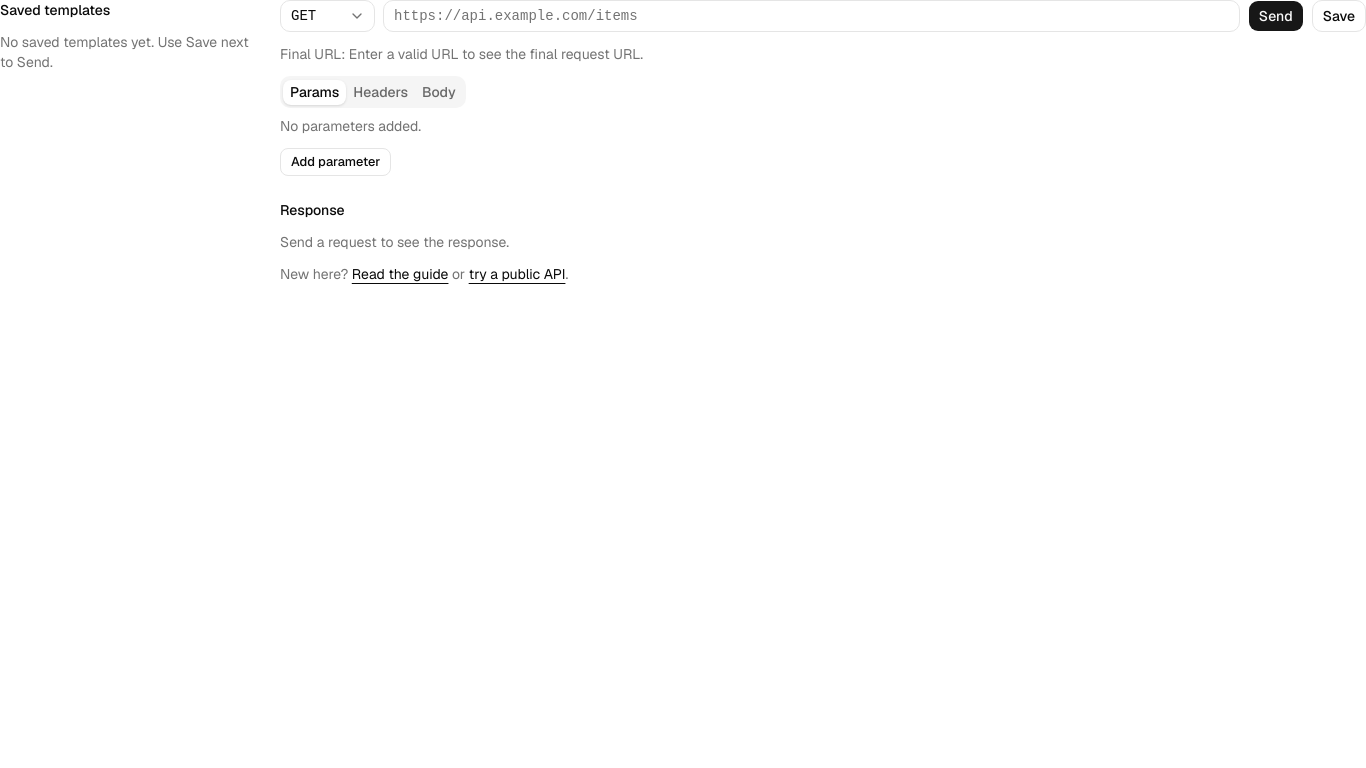
Scenario: Saving templates (FR-03) › saves an encrypted template that stays unlocked
Check: the text "No saved templates yet. Use Save next to Send." is shown, box [0, 32, 256, 72]
Step 1. Type "https://api.example.com/private" into the field named "URL" → (811, 16), box [383, 0, 1240, 32]
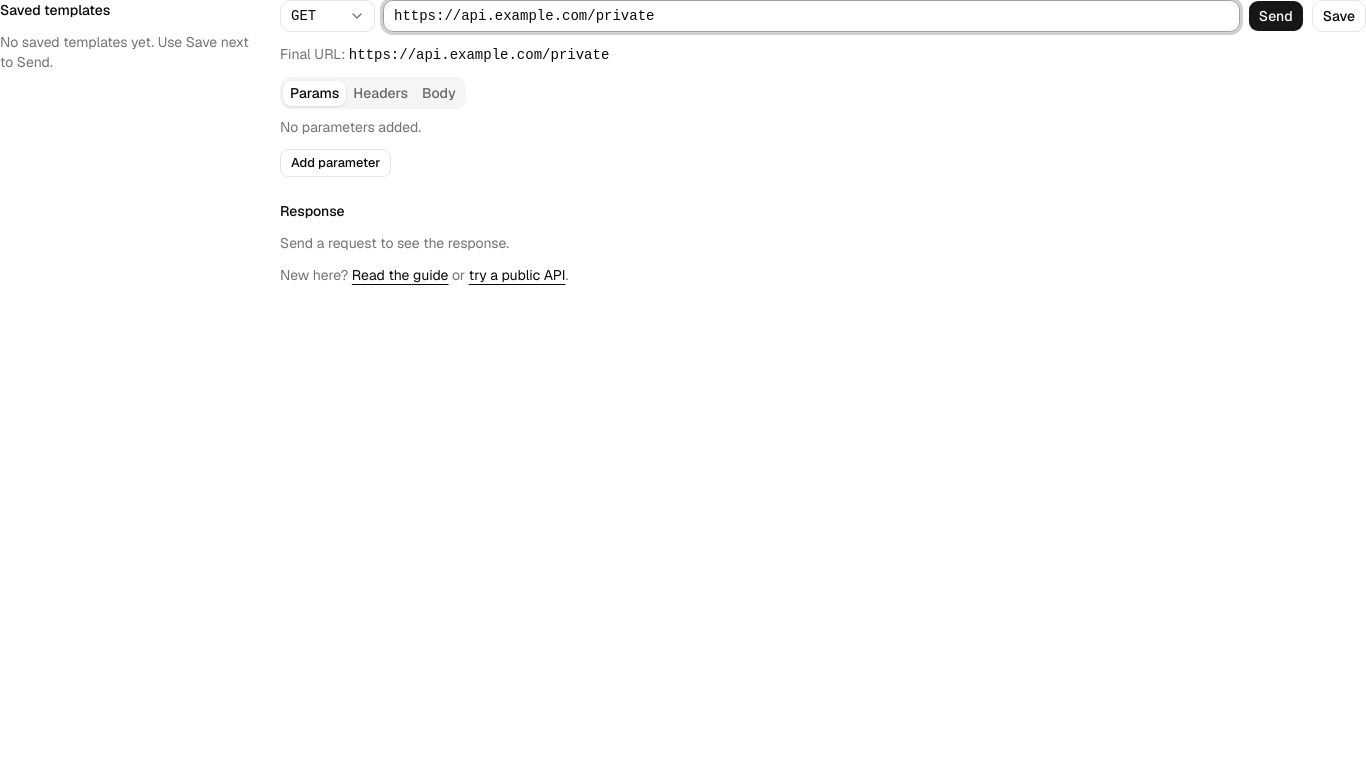
Step 2. Click the button "Save" → (1339, 16), box [1312, 0, 1365, 32]
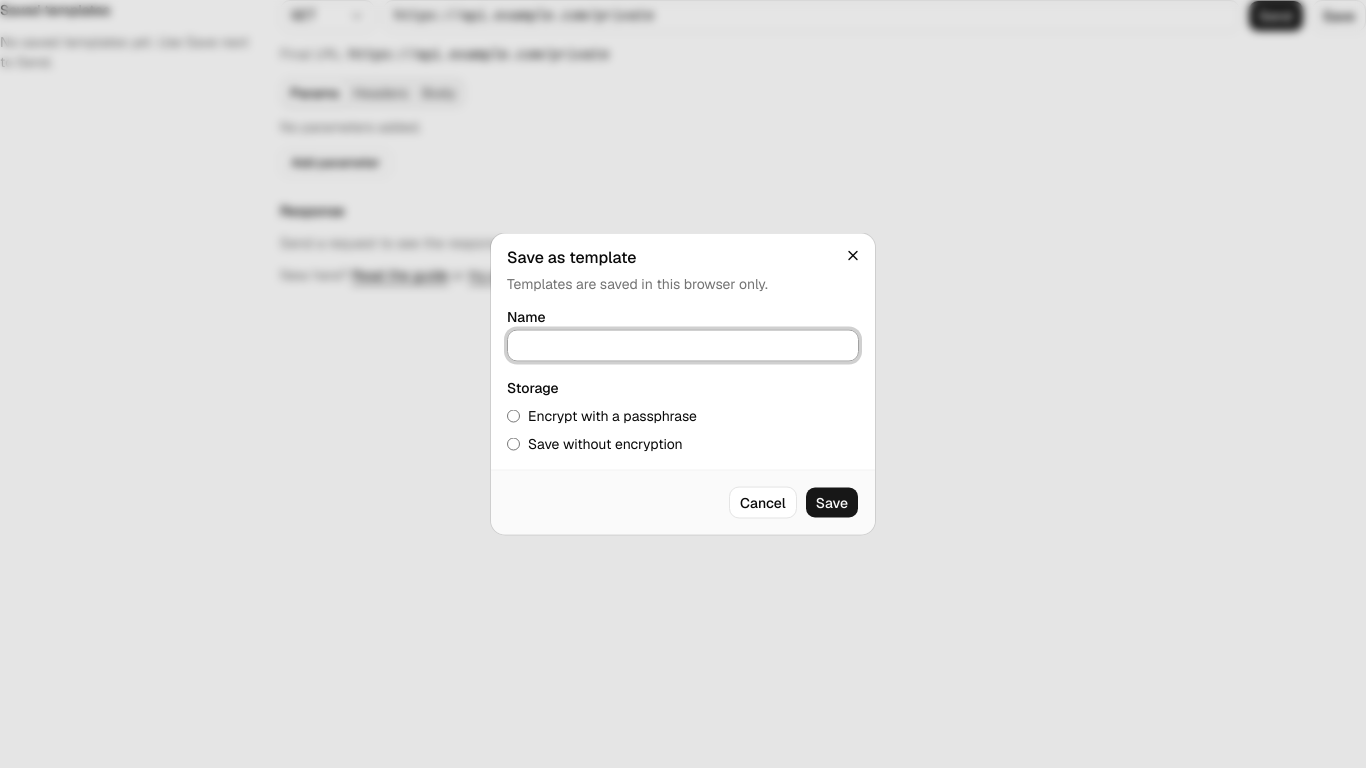
Step 3. Type "Private" into the field labelled "Name" → (683, 346), box [507, 330, 859, 362]
Step 4. Click the radio button labelled "Encrypt with a passphrase" → (514, 416), box [507, 409, 520, 422]
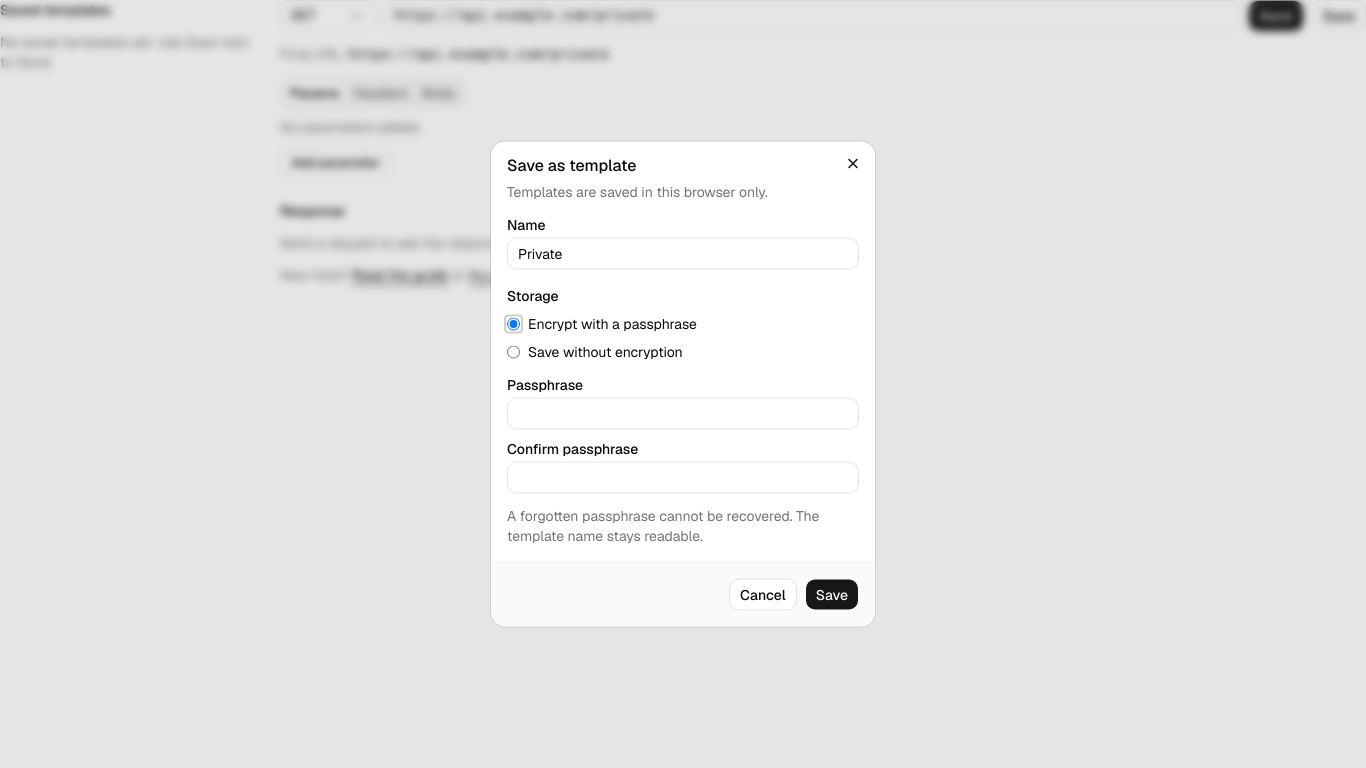
Step 5. Type "correct horse battery" into the password field labelled "Passphrase" → (683, 414), box [507, 398, 859, 430]
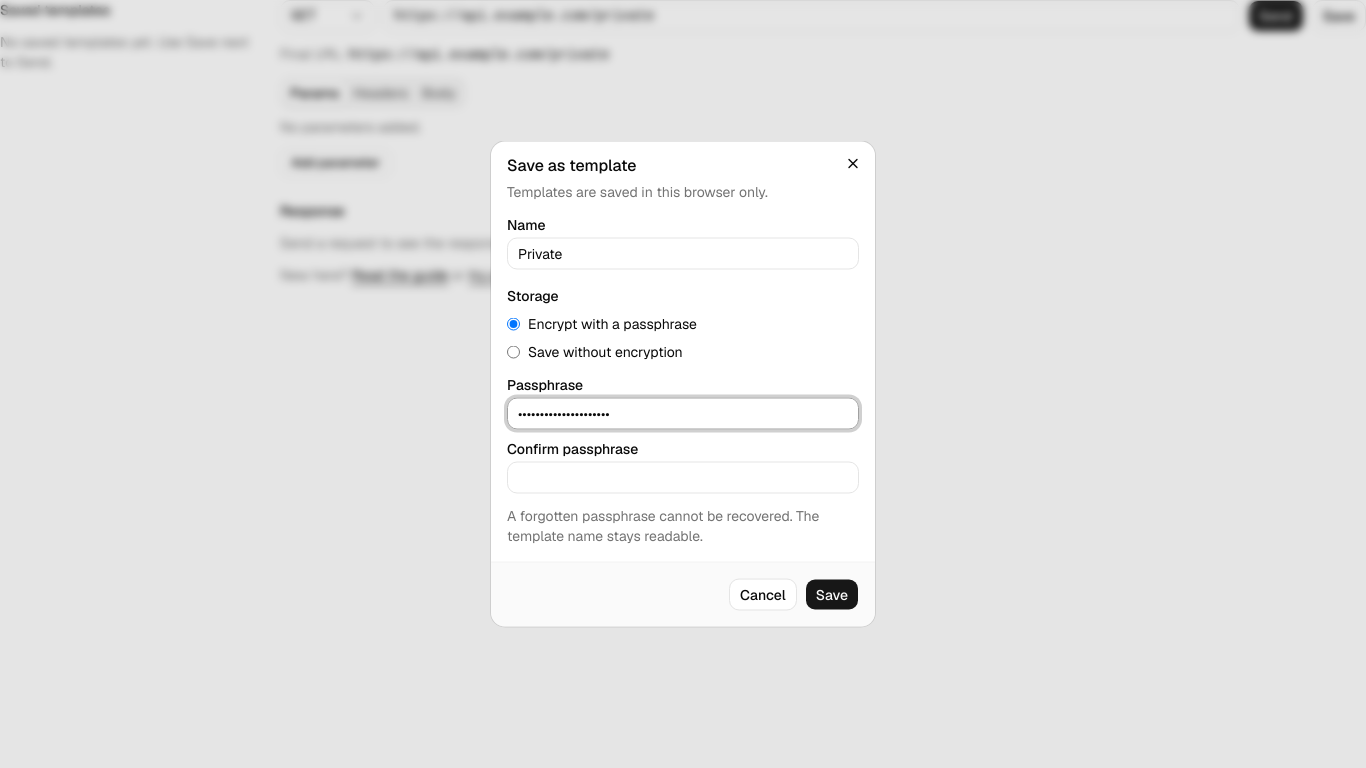
Step 6. Type "correct horse battery" into the password field labelled "Confirm passphrase" → (683, 478), box [507, 462, 859, 494]
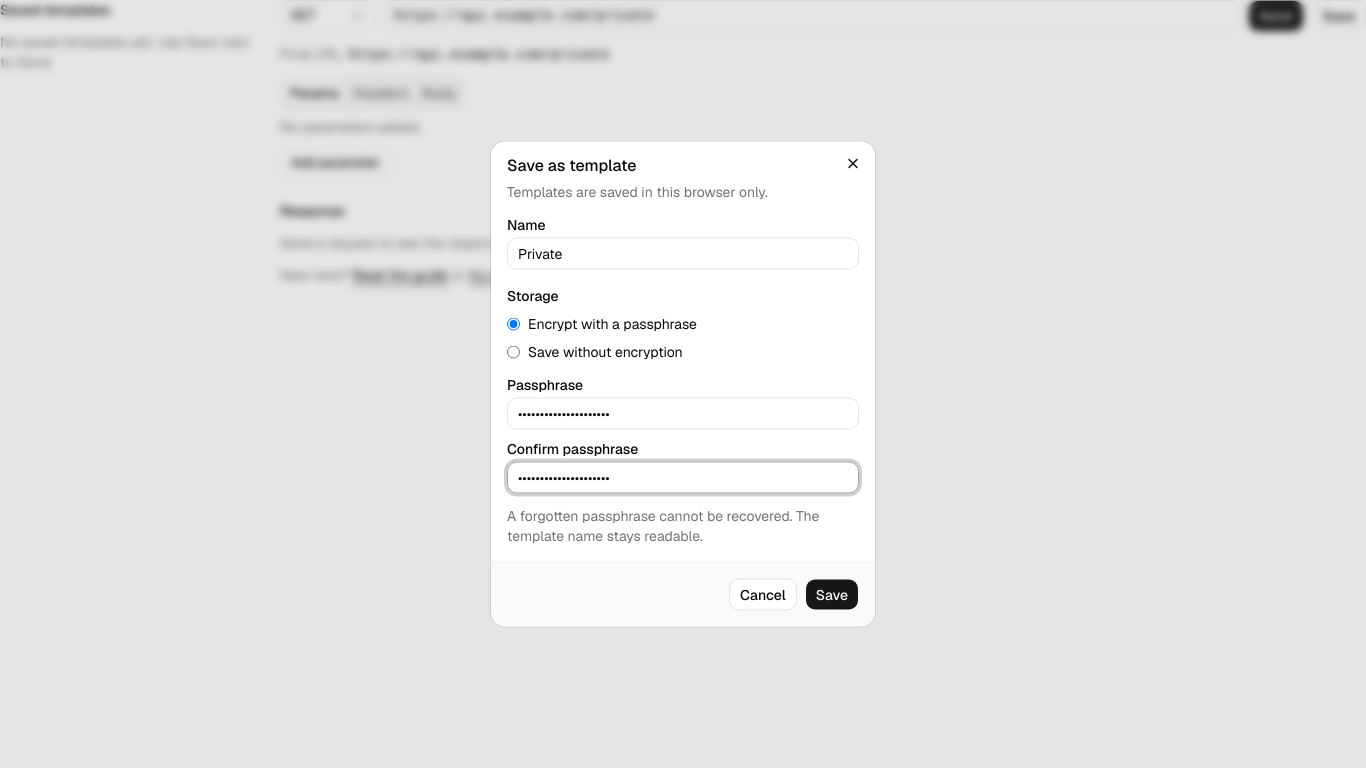
Step 7. Click the button "Save" → (832, 594), box [805, 578, 859, 610]
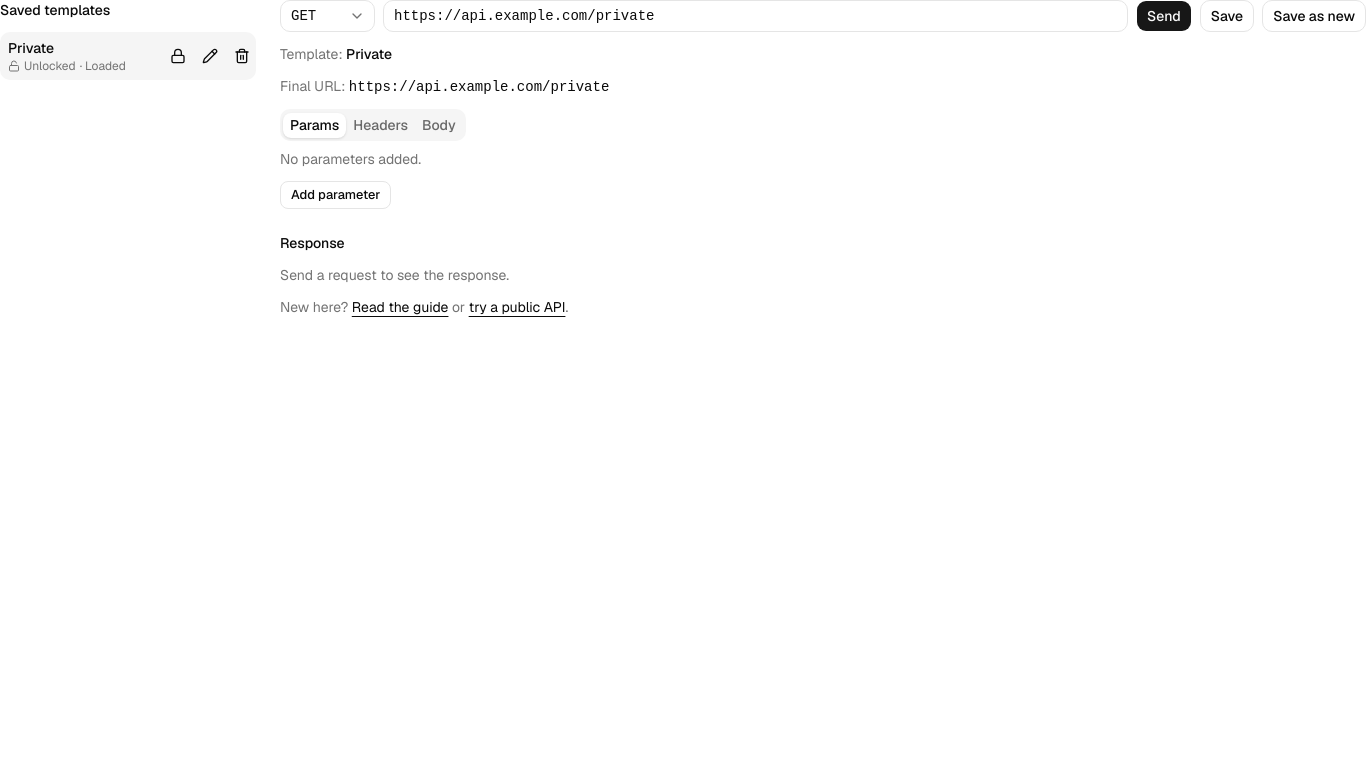
Check: the dialog is gone
